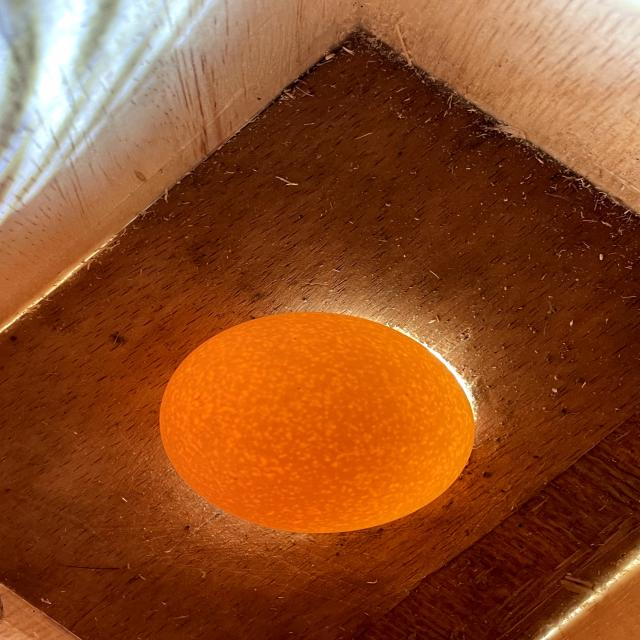infertile: (160, 312, 475, 532)
